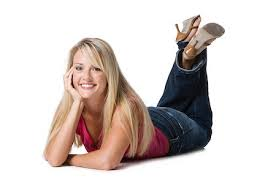no-mask: (66, 42, 110, 99)
